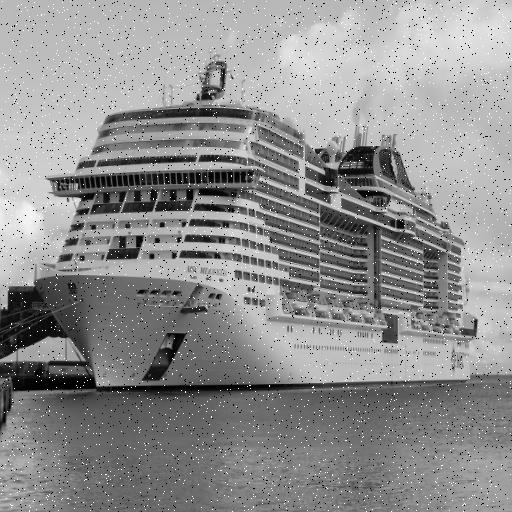cruises: (31, 59, 482, 398)
